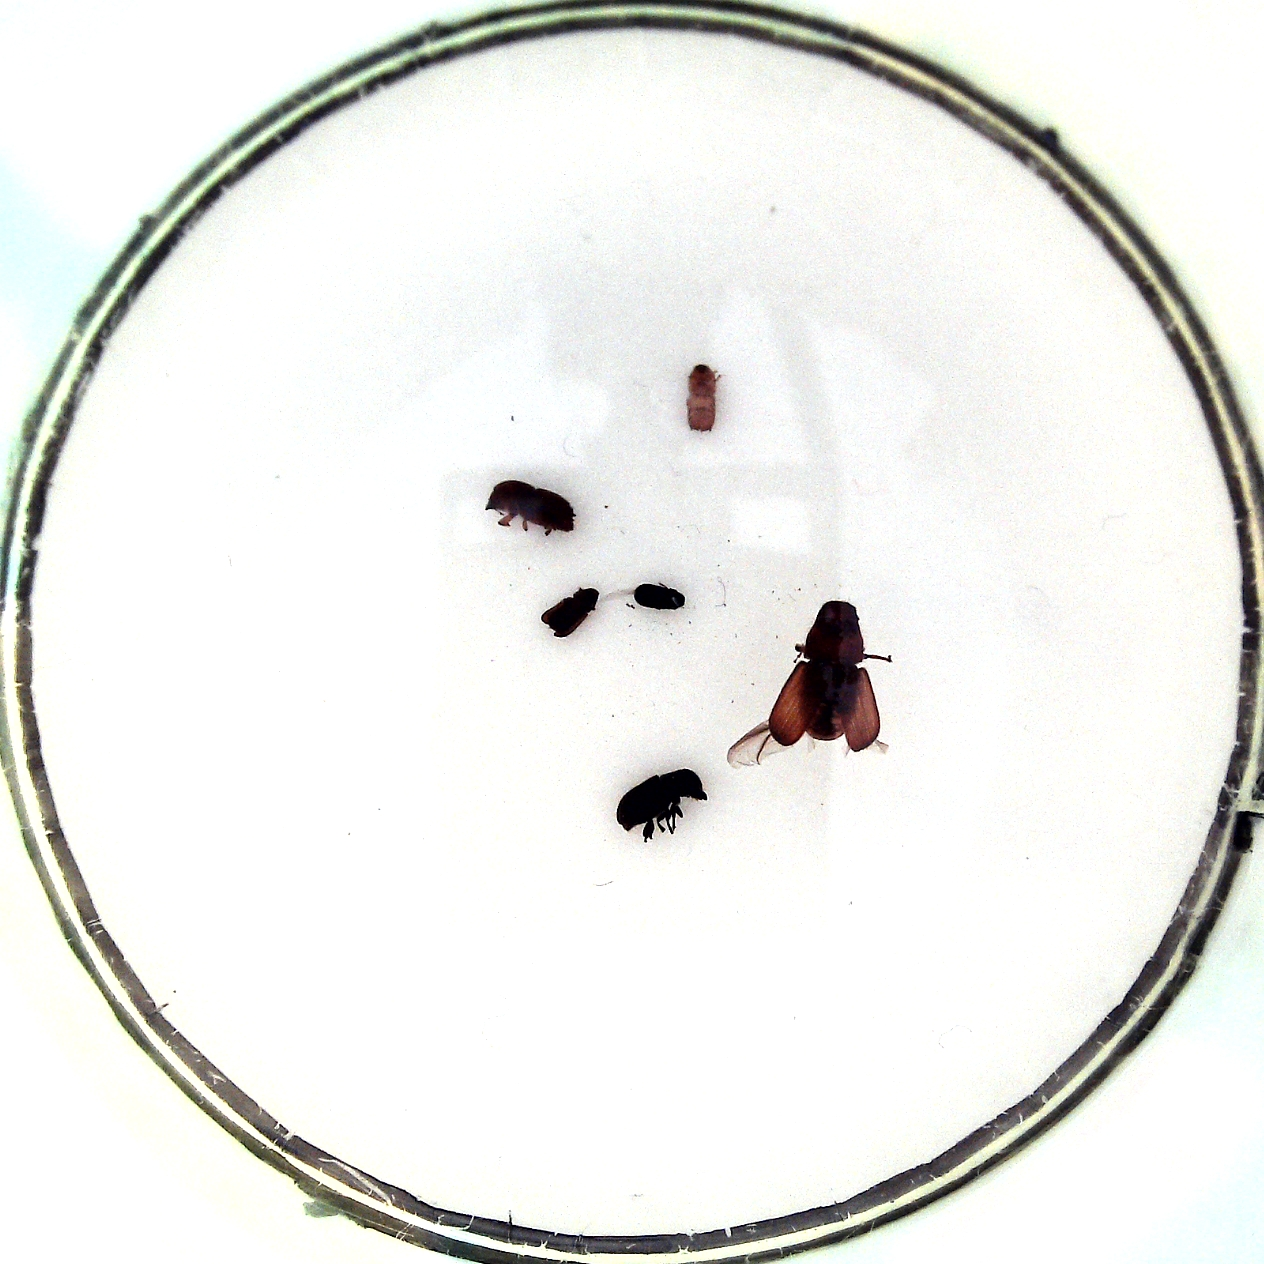Leconte: (798, 598, 867, 741)
acuminatus: (634, 585, 686, 610)
armandi: (616, 767, 708, 831)
coleoptera: (541, 587, 598, 637), (686, 363, 716, 433)
linnaeus: (484, 480, 576, 532)
